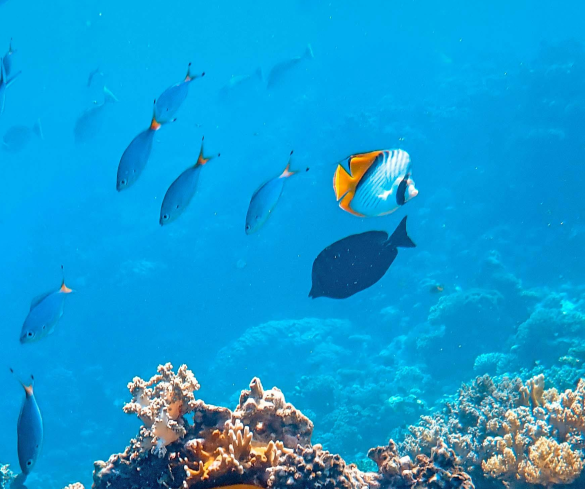fishRound: (306, 214, 416, 300), (330, 147, 417, 219)
fishSmall: (157, 134, 224, 229), (114, 97, 176, 193), (243, 150, 311, 237), (17, 264, 82, 347), (9, 364, 46, 476), (157, 64, 206, 116)
